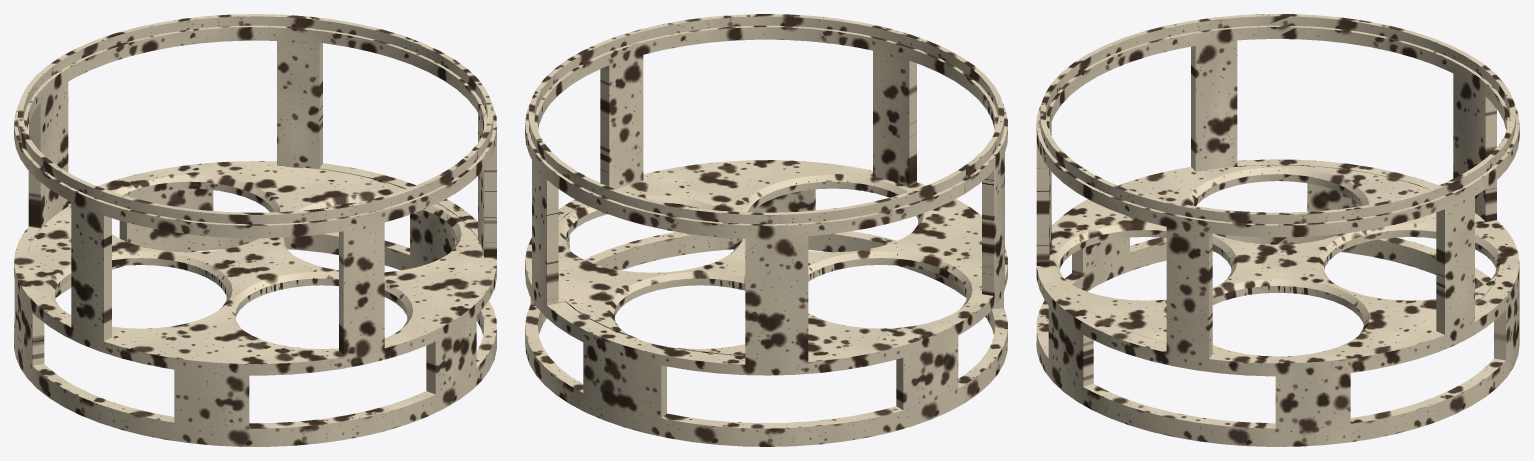
The model's file is egg-holder-light.glb.
3 renders of one model, left to right at view 1: azimuth 30°, elevation 25°; view 2: azimuth 150°, elevation 25°; view 3: azimuth 270°, elevation 25°, orthographic.
Bounding box in the file's own units: 0.1206 × 0.0635 × 0.1207.
Materials: 1 (1 with a texture image).
